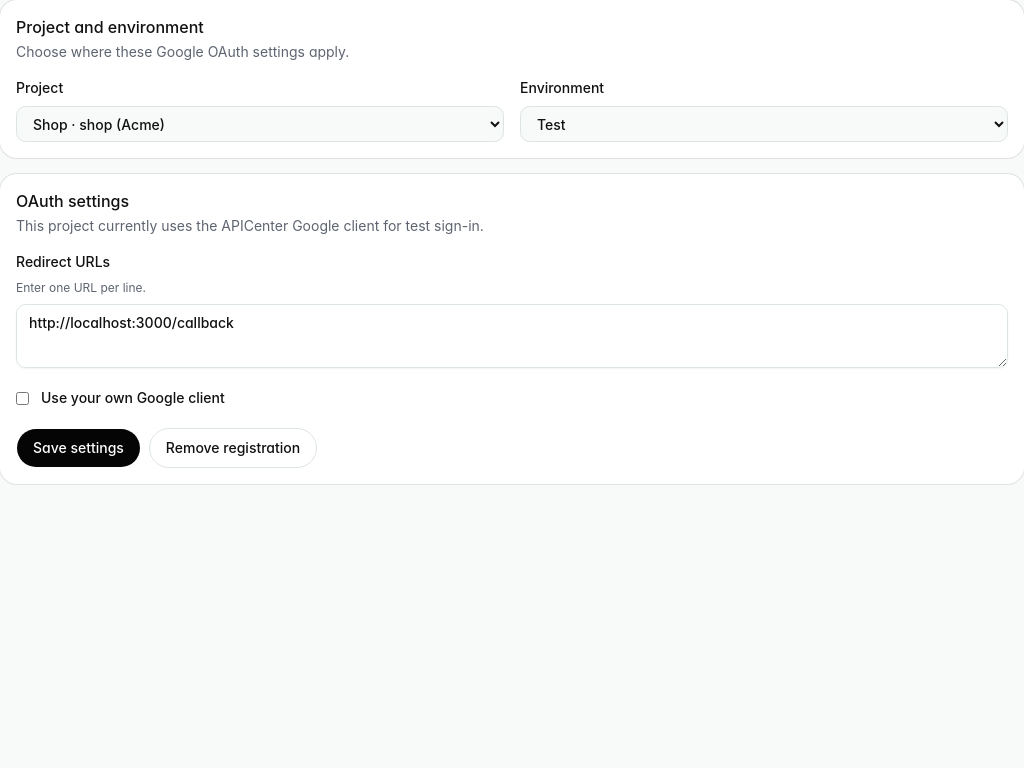
Test: GoogleSignInSettingsClient › shows the gateway message when a save returns a structured error
Expected: the text "OAuth settings" is shown, [16,191,129,211]
Clear the text box labelled "Redirect URLs": {"x": 512, "y": 336} [16,304,1008,368]
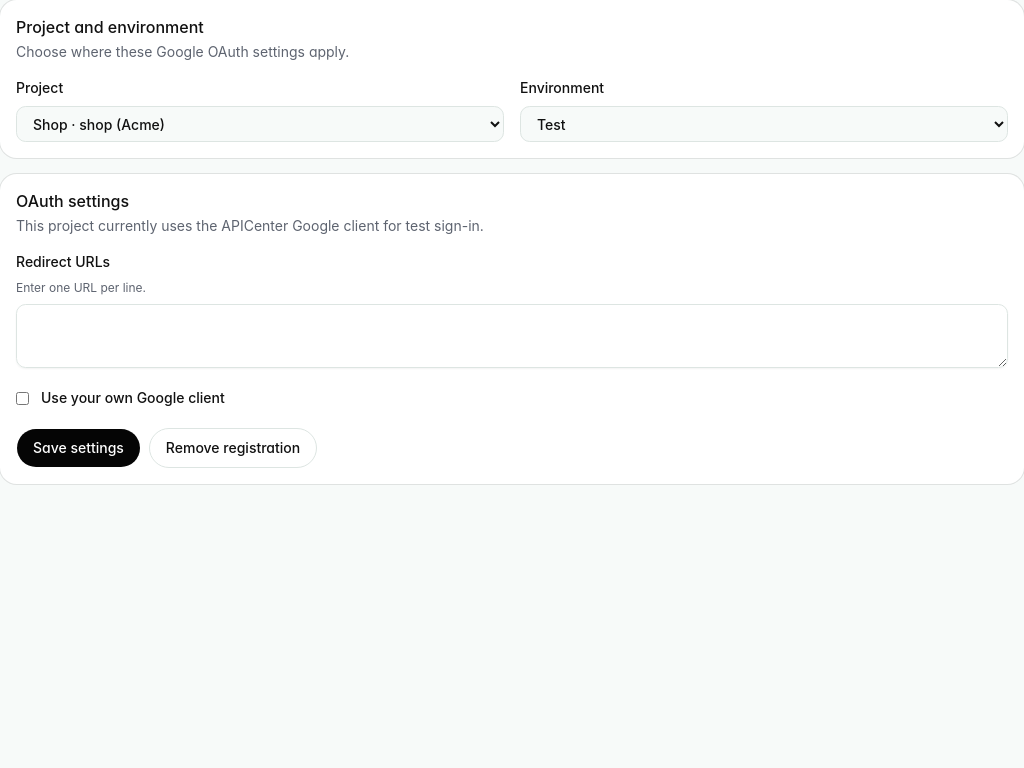
Click the button "Save settings": {"x": 78, "y": 448} [16,428,141,468]
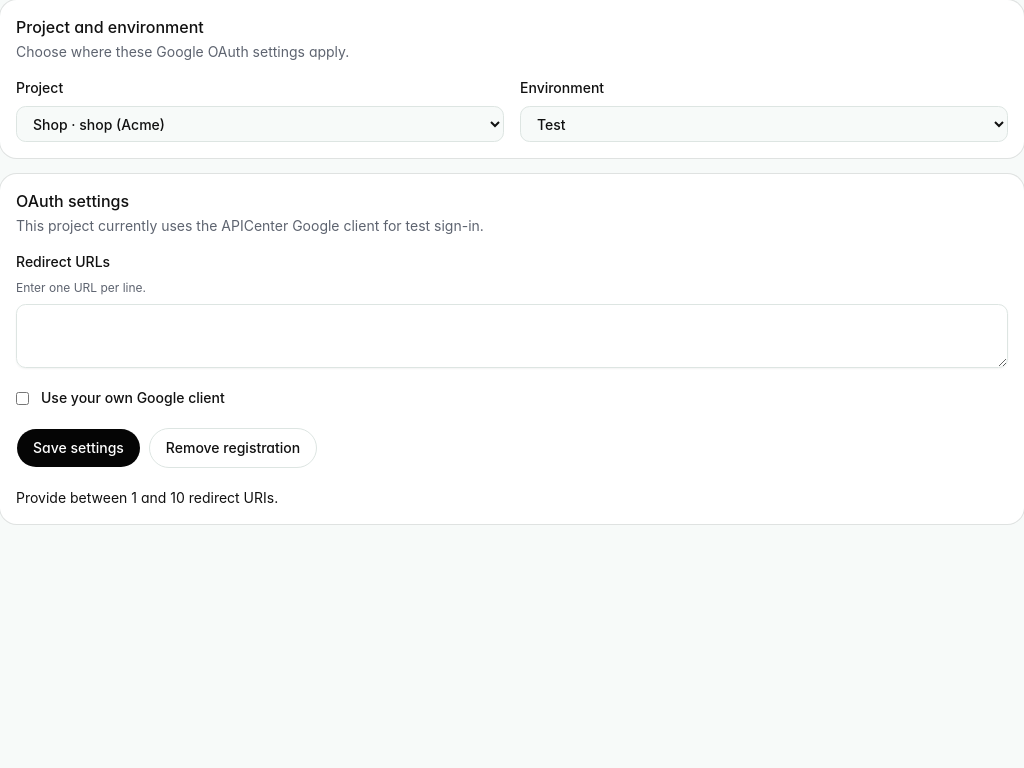
Result: the text "Provide between 1 and 10 redirect URIs." is shown at [16,489,278,506]
